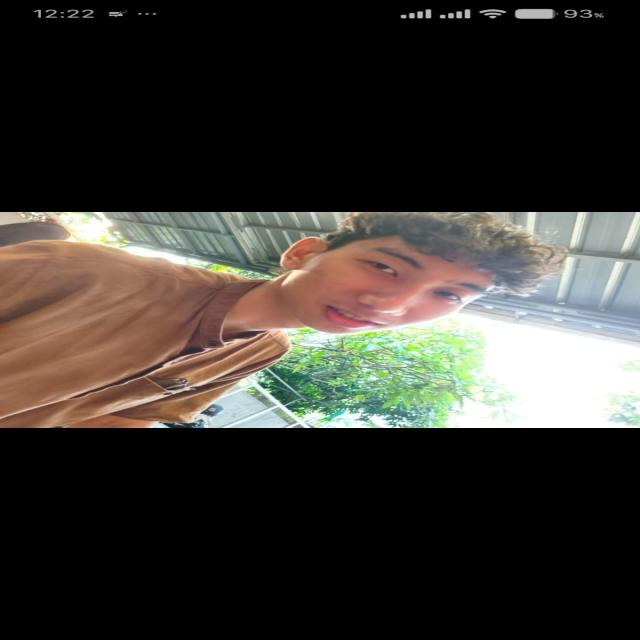sem_oculos: (313, 230, 499, 315)
